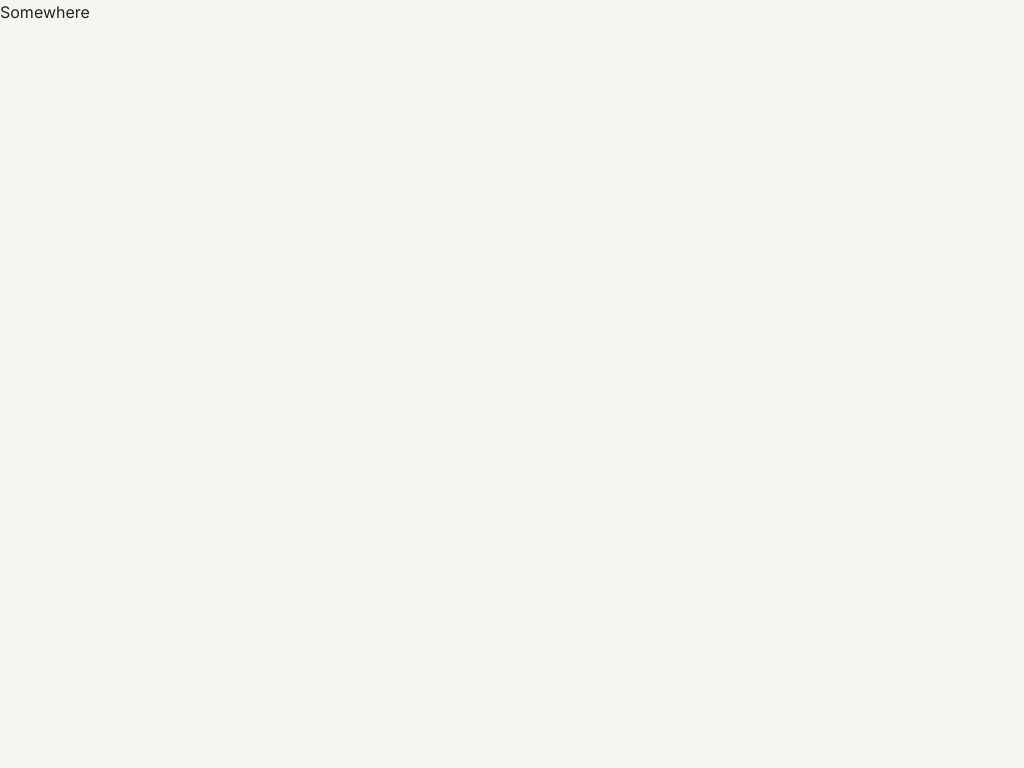
it: CommandPalette › opens with Ctrl/Cmd+K, filters, and runs the chosen action with Enter
This screenshot has width=1024, height=768.
Press k
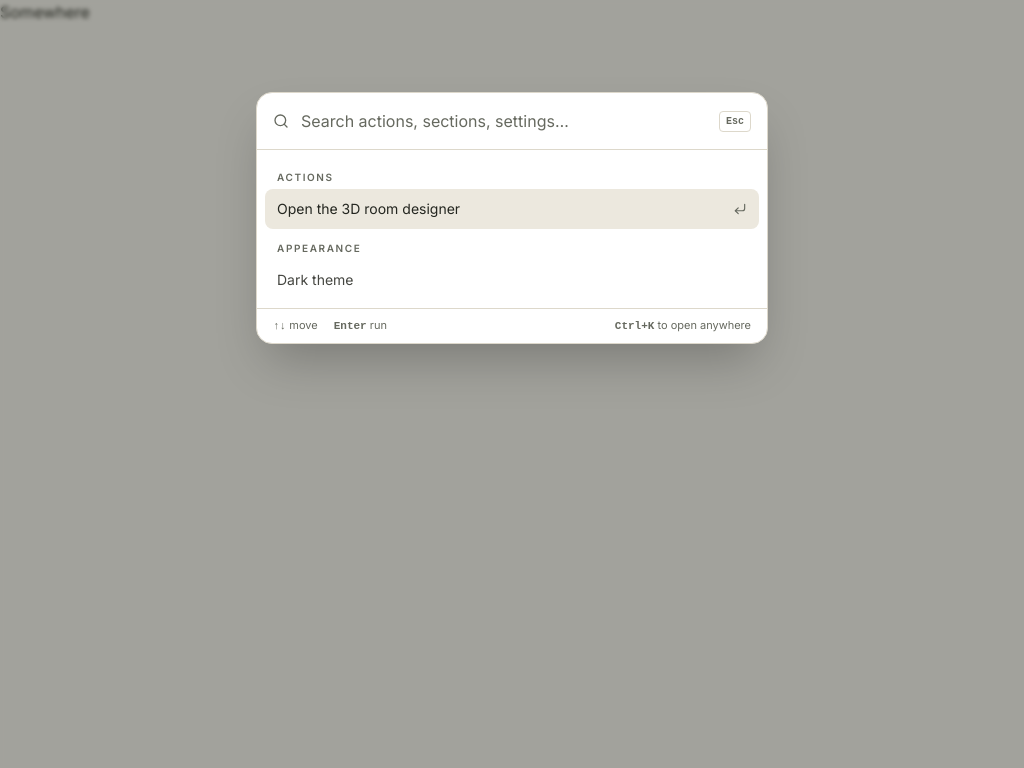
Check: the number of options is 2, box [265, 189, 759, 229]; [277, 271, 354, 288]
Type "dark" into the dropdown labelled "Search actions" at (504, 121), box [301, 93, 707, 149]
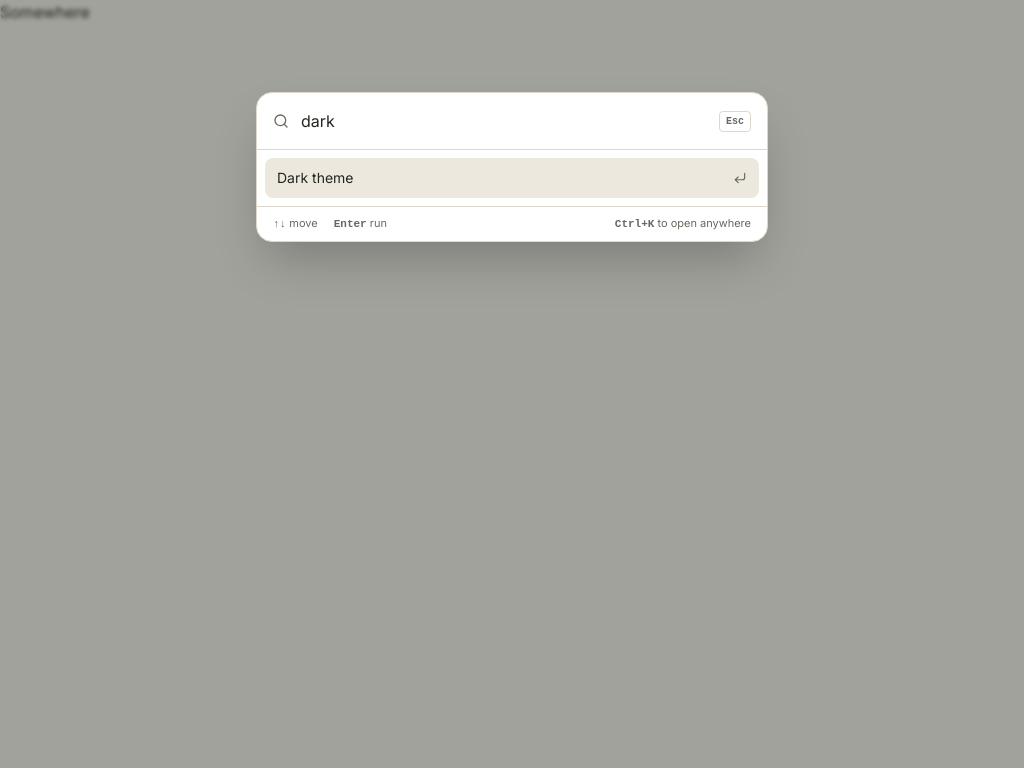
Check: the options read "Dark theme", in this order, box [265, 158, 759, 198]
Press Enter in the dropdown named "Search actions", box [301, 93, 707, 149]
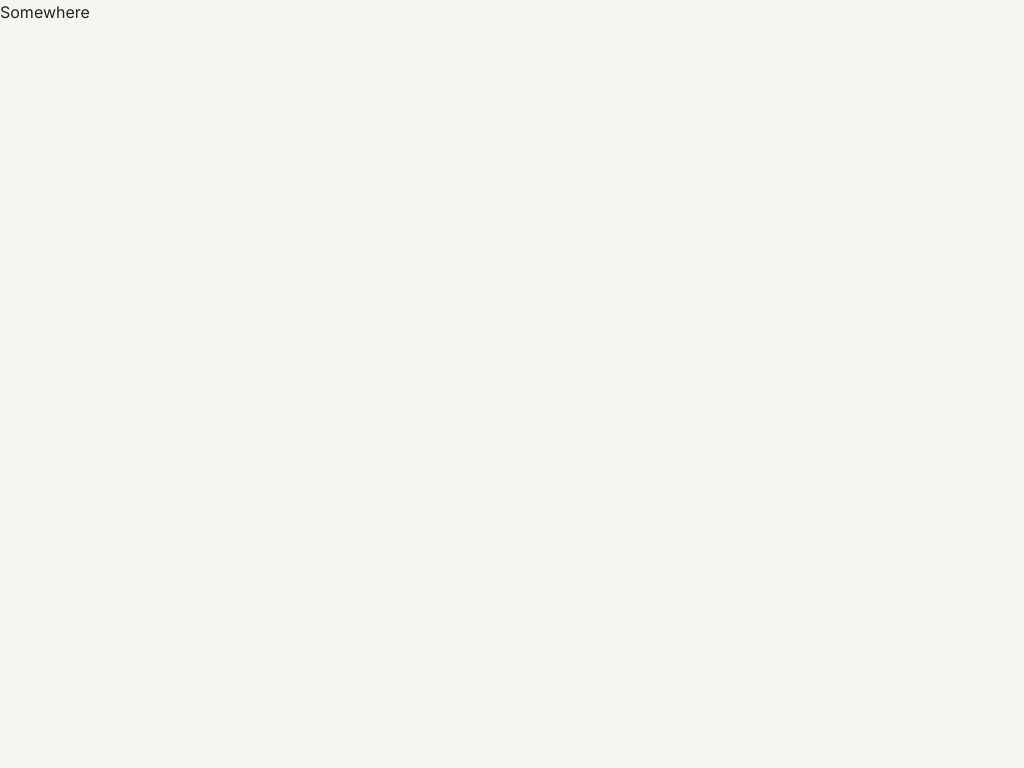
Check: the dialog is gone
